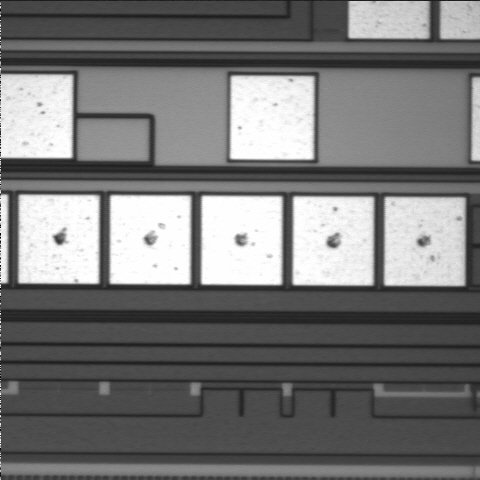pad: (18, 195, 99, 284), (110, 195, 191, 284), (201, 196, 282, 285), (293, 196, 374, 285), (384, 197, 465, 286), (230, 76, 314, 160)
